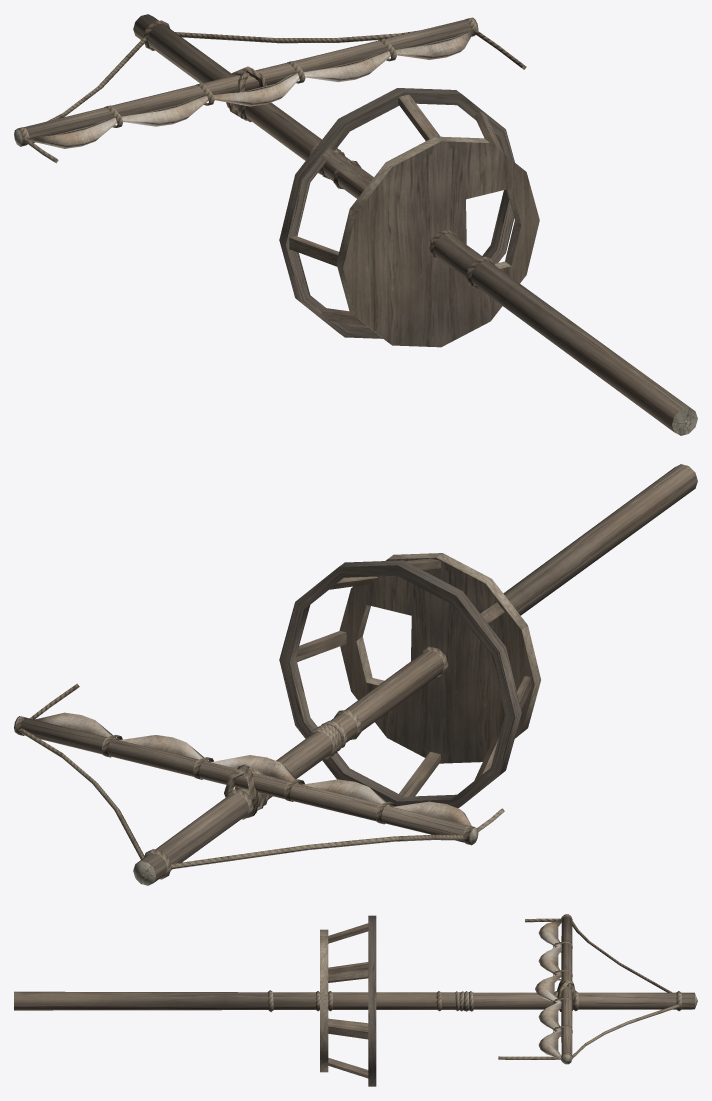
File: Boat_Mast_A.fbx
3 renders of one model, top to bottom at view 1: azimuth 30°, elevation 25°; view 2: azimuth 150°, elevation 25°; view 3: azimuth 270°, elevation 25°, orthographic. The views are drawn at different scales.
Parts seen in each view (by area): view 1: Boat_Mast_A; view 2: Boat_Mast_A; view 3: Boat_Mast_A.
Part boxes in pixels (box(x1,y1,x2,y2)): Boat_Mast_A: box(14, 14, 697, 435); Boat_Mast_A: box(14, 464, 697, 885); Boat_Mast_A: box(14, 914, 697, 1086).
Bounding box in the file's own units: 10.73 × 5.48 × 21.84.
